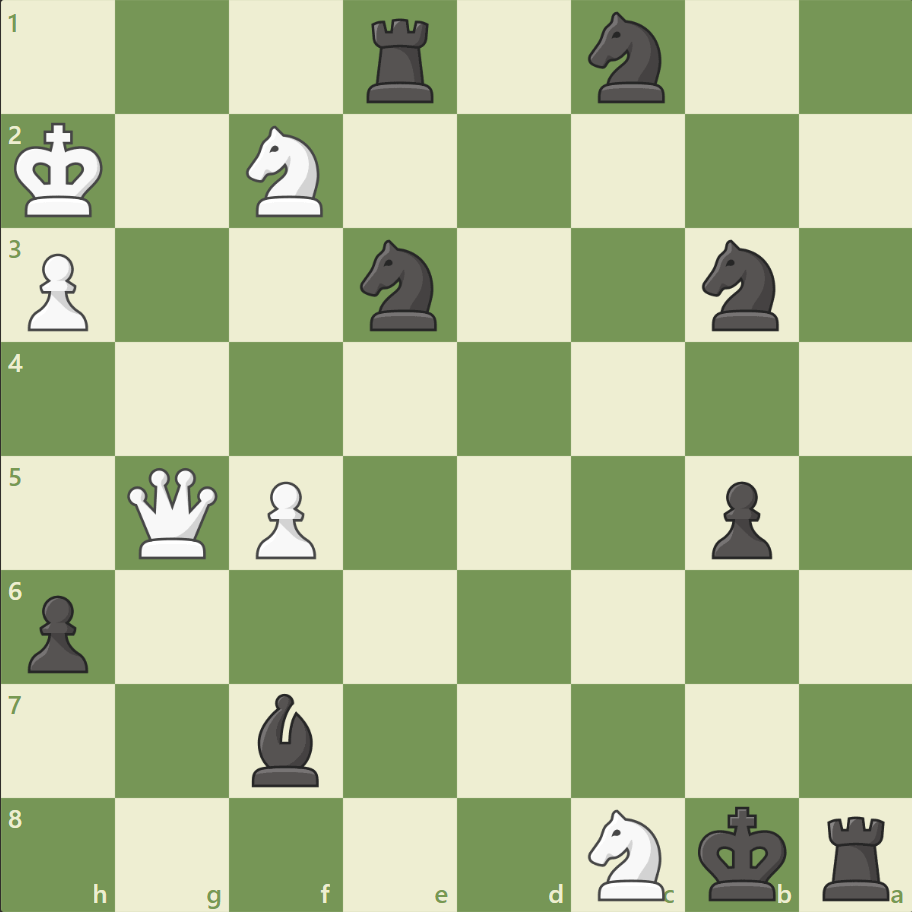K: (11, 117, 111, 225)
N: (579, 802, 676, 904), (238, 121, 335, 223)
P: (247, 473, 322, 564), (20, 246, 95, 337)
Q: (124, 463, 223, 562)
b: (244, 687, 328, 790)
k: (692, 798, 792, 906)
n: (351, 234, 449, 337), (692, 234, 789, 337), (579, 7, 676, 110)
p: (20, 586, 95, 677), (701, 473, 776, 564)
r: (814, 806, 897, 904), (360, 12, 442, 109)
